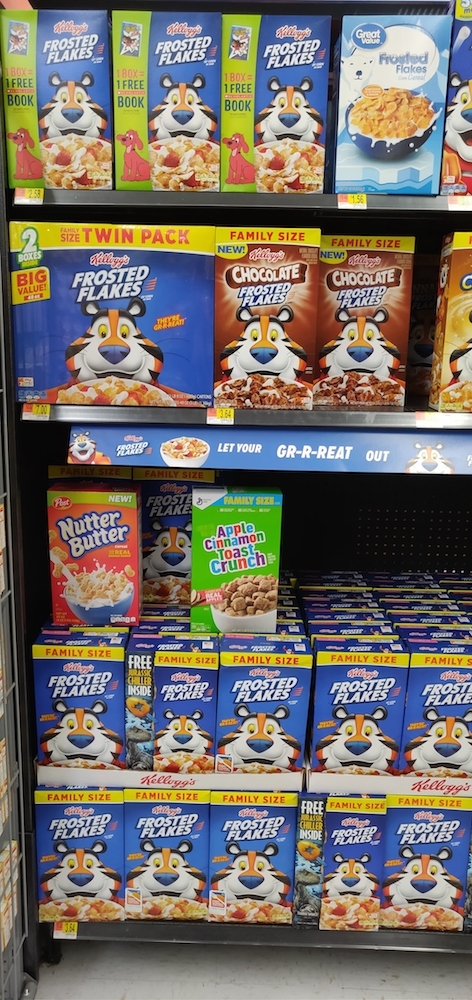Nutter Butter-565717511: (44, 491, 139, 626)
